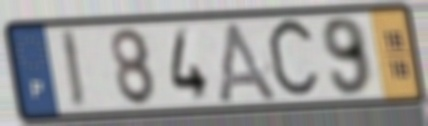4: (169, 26, 212, 102)
8: (108, 25, 158, 109)
9: (319, 14, 377, 99)
A: (213, 18, 283, 104)
C: (264, 14, 324, 105)
I: (57, 27, 89, 113)
